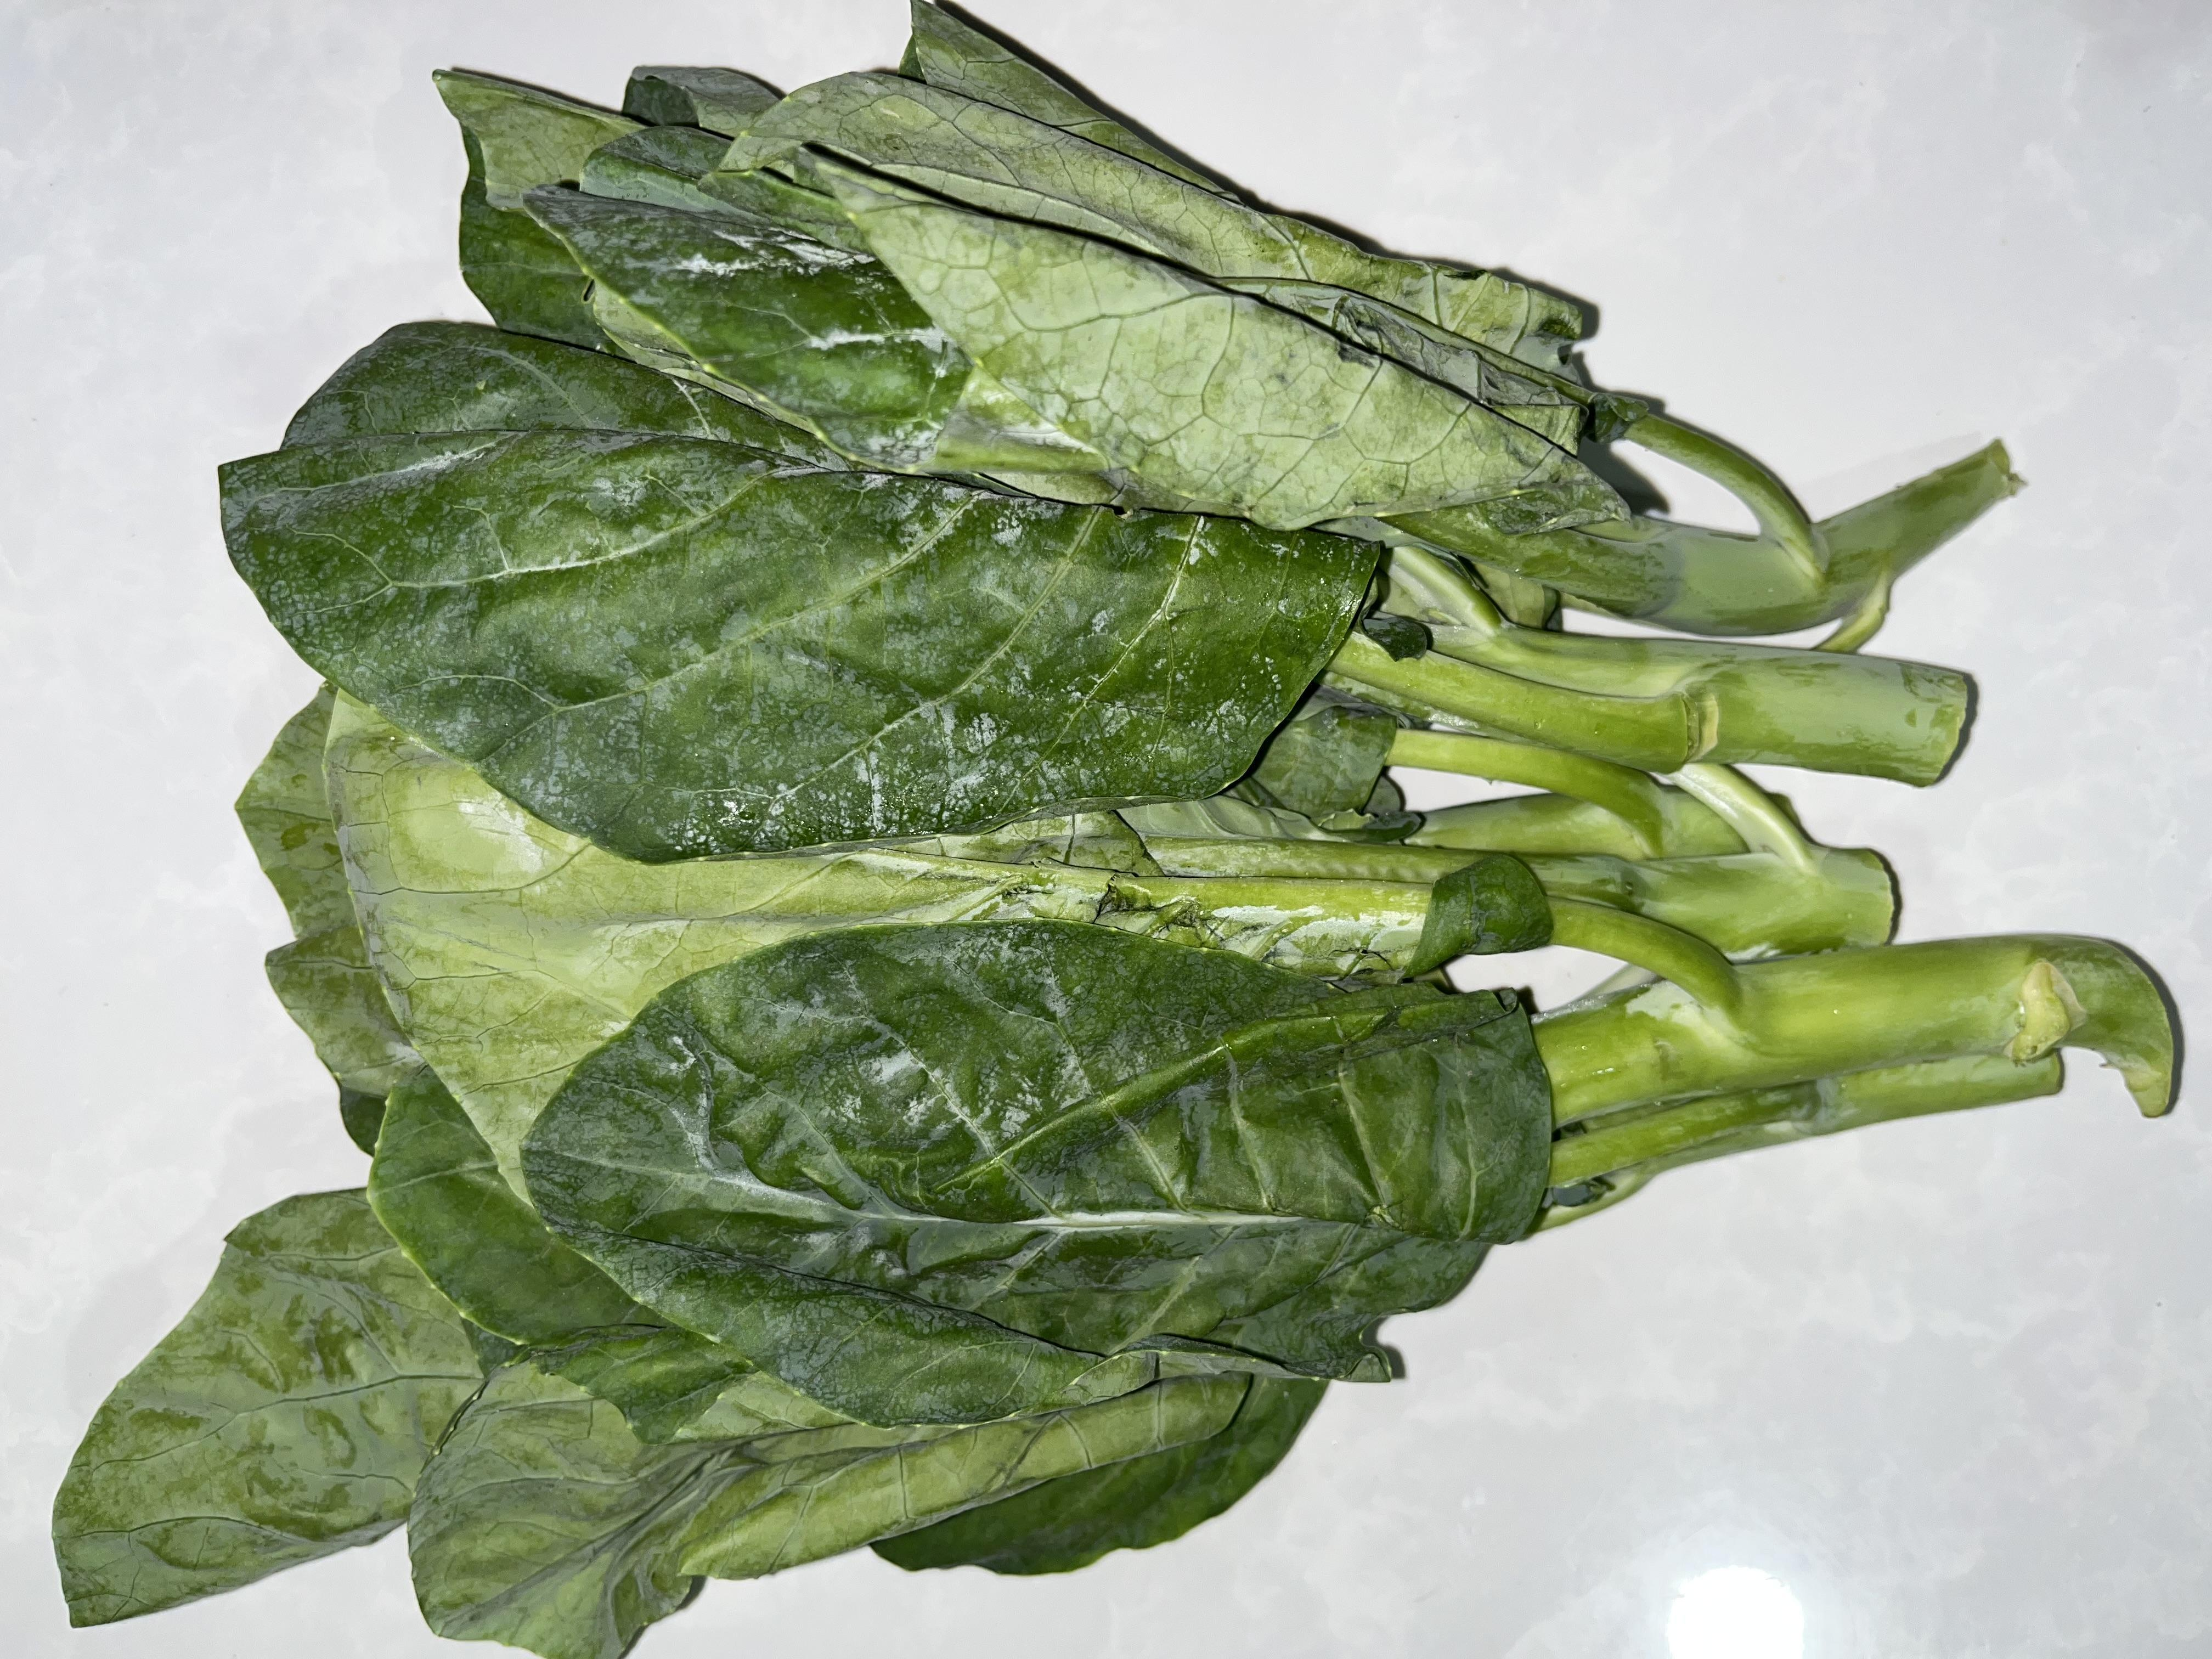Healthy-Pechay: (242, 44, 1756, 1568)
